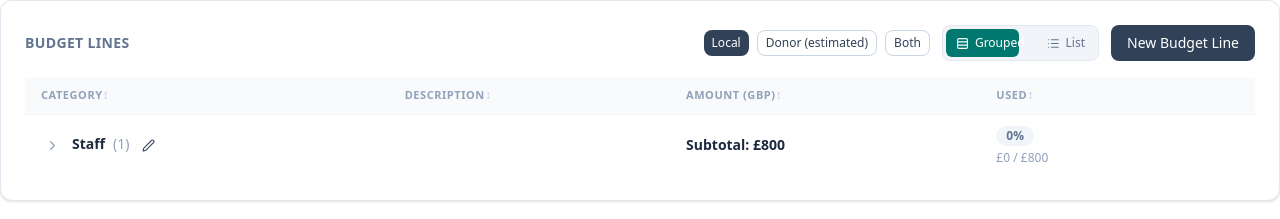
BudgetViewLinesTable currency toggle › splits Amount into two real columns — one per currency — when Both is selected
Click the button "Both" at (908, 43), box x1=885 y1=30 x2=930 y2=56
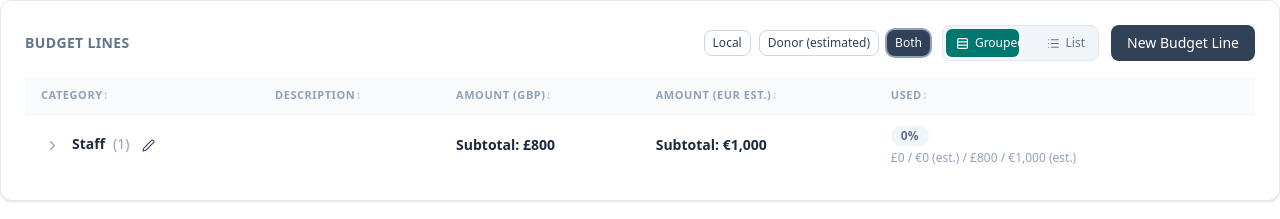
expect the text "Amount (EUR est.)" is shown: met, box x1=656 y1=87 x2=771 y2=102
expect the text "Subtotal: €1,000" is shown: met, box x1=656 y1=135 x2=767 y2=154
expect the text "£0 / €0 (est.) / £800 / €1,000 (est.)" is shown: met, box x1=891 y1=148 x2=1076 y2=166
